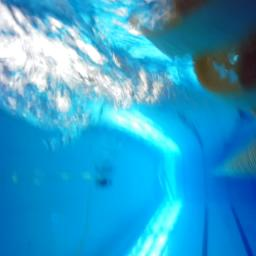Full: (96, 176, 112, 190)
